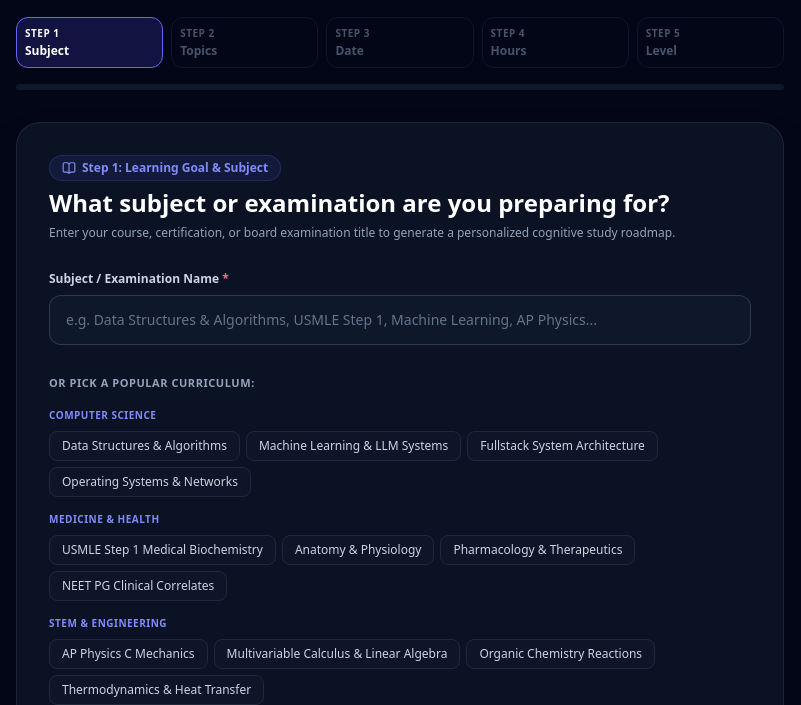
Scenario: Component Tests: 5-Step Onboarding Wizard › should advance to next step when valid subject is provided
Step 1. Replace the text in the field with placeholder "e.g. Data Structures & Algorithms" with "Operating Systems & Concurrency" → (400, 320), box [49,295,751,345]
(page scrolled)
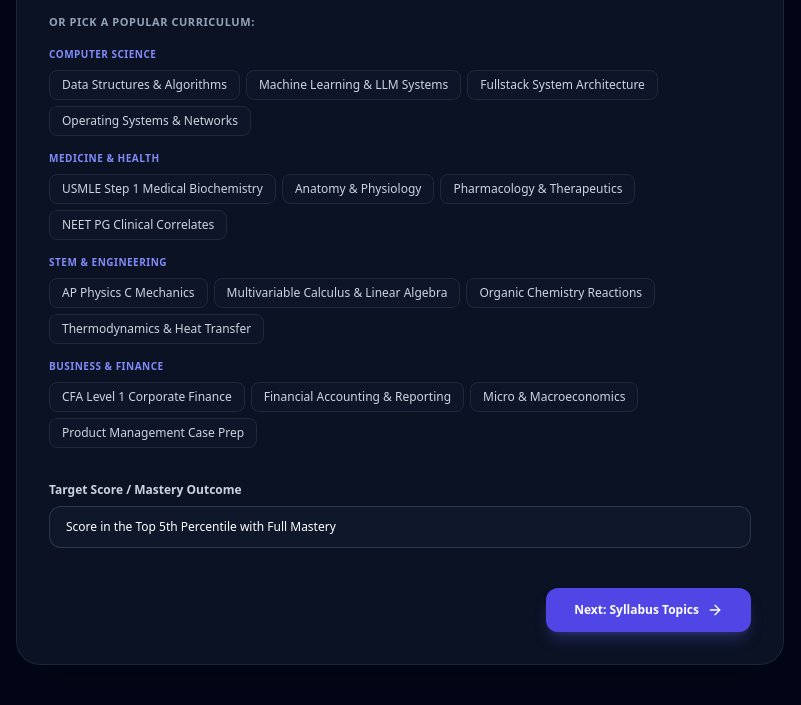
Step 2. Click the button "Next: Syllabus Topics" → (649, 610), box [546,588,751,632]
(page scrolled)
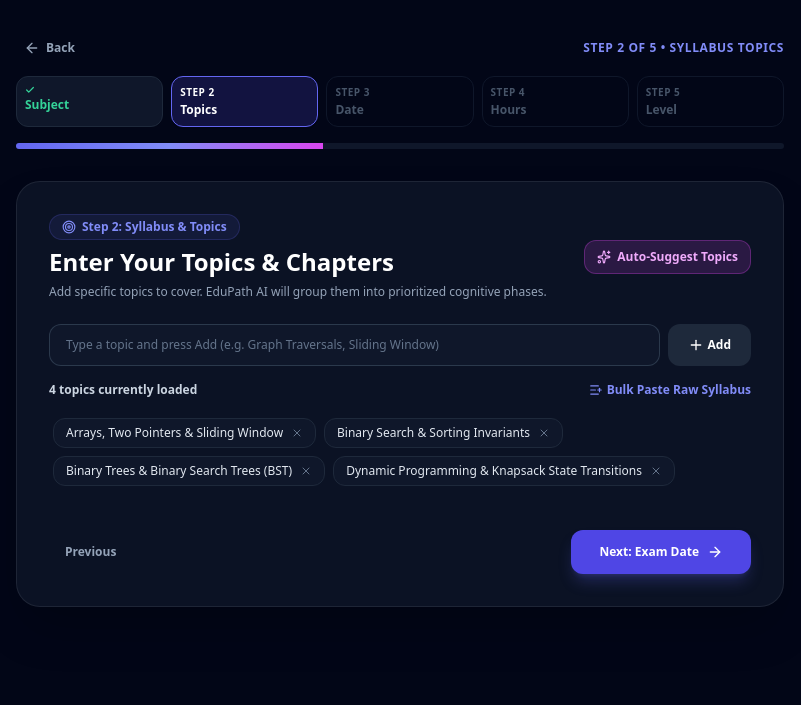
Now the heading "Enter Your Topics & Chapters" is shown, box [49,244,394,278]
